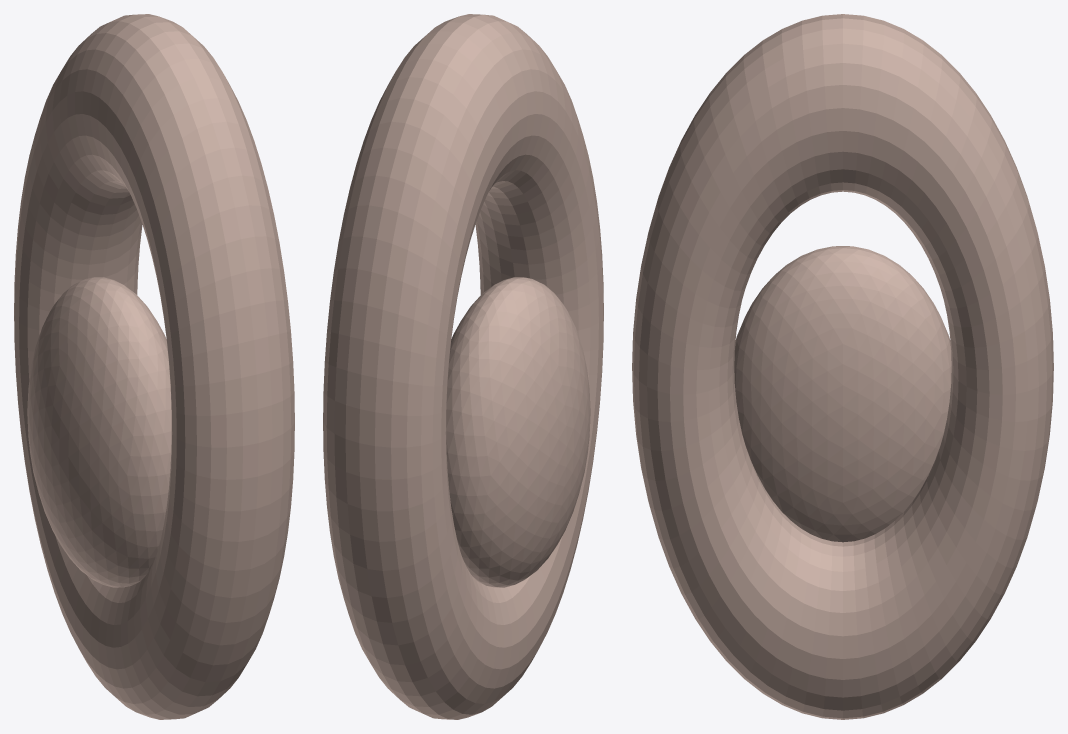
File: ear_a.glb
3 renders of one model, left to right at view 1: azimuth 30°, elevation 25°; view 2: azimuth 150°, elevation 25°; view 3: azimuth 270°, elevation 25°, orthographic.
Parts seen in each view (by area): view 1: geometry_0; view 2: geometry_0; view 3: geometry_0.
Part boxes in pixels (x1,y1,x2,y2): geometry_0: (14, 14, 294, 719); geometry_0: (323, 14, 603, 719); geometry_0: (632, 14, 1053, 719).
Bounding box in the file's own units: 15.32 × 62.95 × 34.52.
